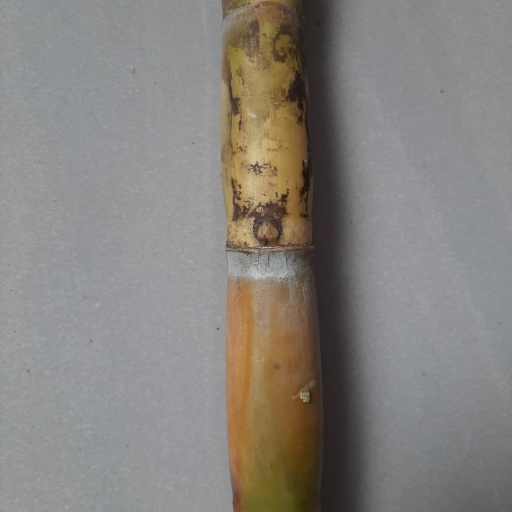Bud: (254, 216, 281, 246)
